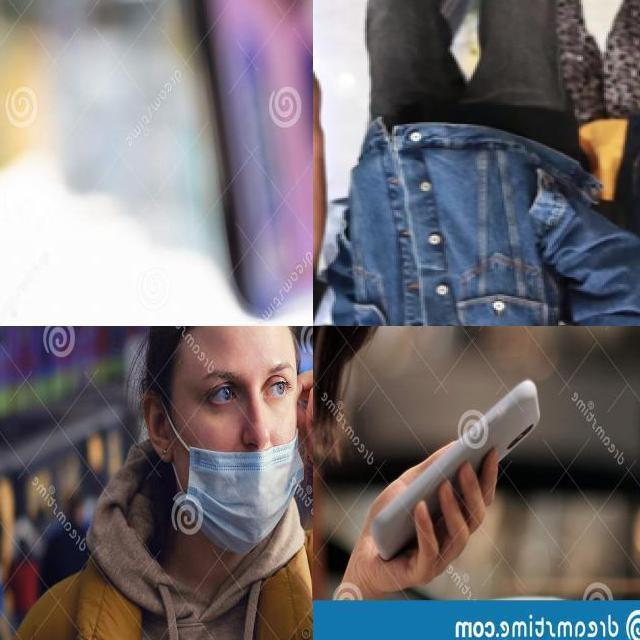hairnet: (164, 403, 301, 543)
